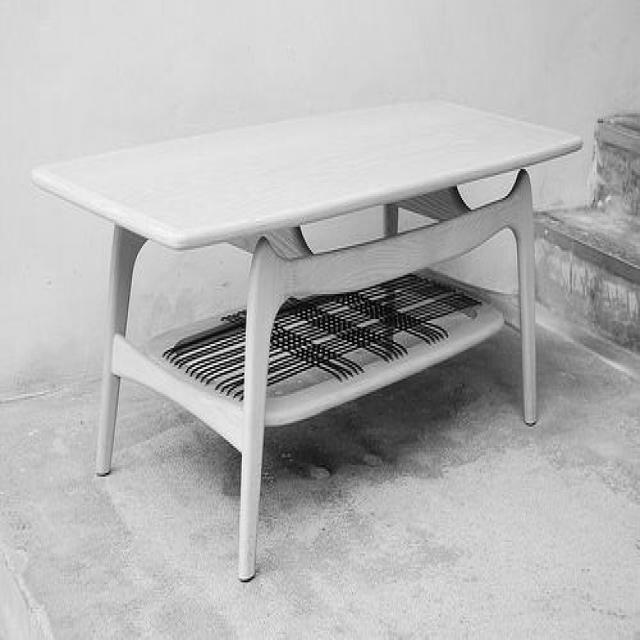table: (36, 95, 582, 580)
